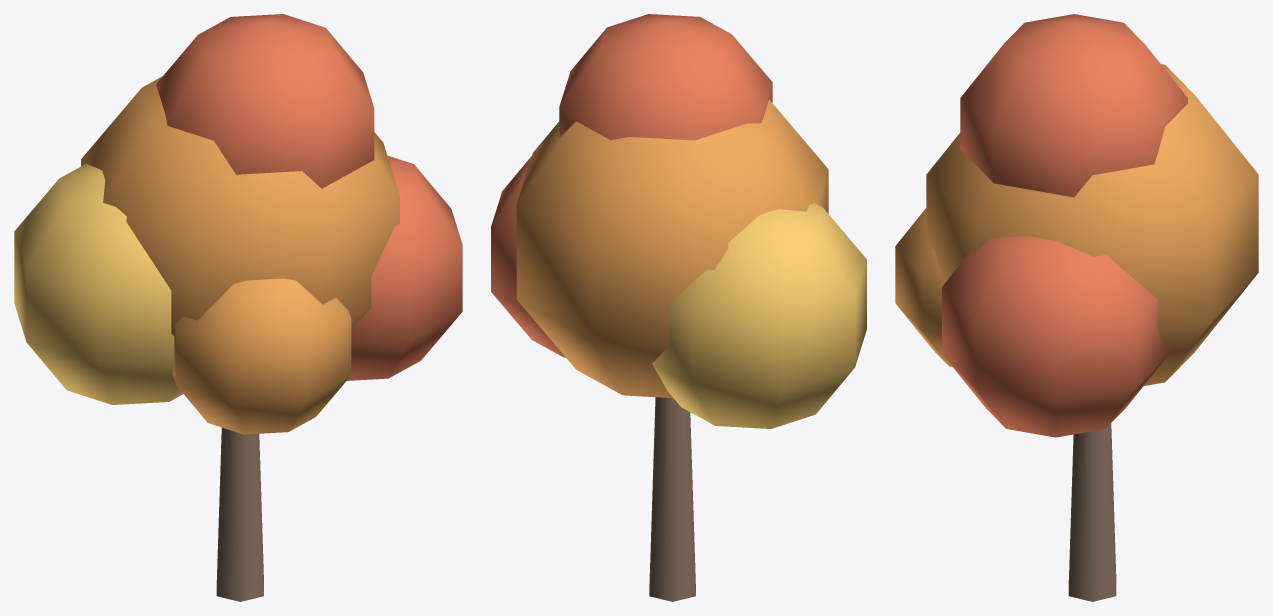
The model's file is tree_autumn.glb.
The picture shows the model from 3 angles, left to right: view 1: azimuth 30°, elevation 25°; view 2: azimuth 150°, elevation 25°; view 3: azimuth 270°, elevation 25°; orthographic projection. The views are drawn at different scales.
Parts seen in each view (by area): view 1: tree_autumn; view 2: tree_autumn; view 3: tree_autumn.
Boxes of the visible parts, bbox=[...] form: tree_autumn: bbox=[14, 14, 462, 601]; tree_autumn: bbox=[491, 14, 866, 601]; tree_autumn: bbox=[895, 14, 1258, 601].
Bounding box in the file's own units: 4.97 × 6.9 × 3.95.
